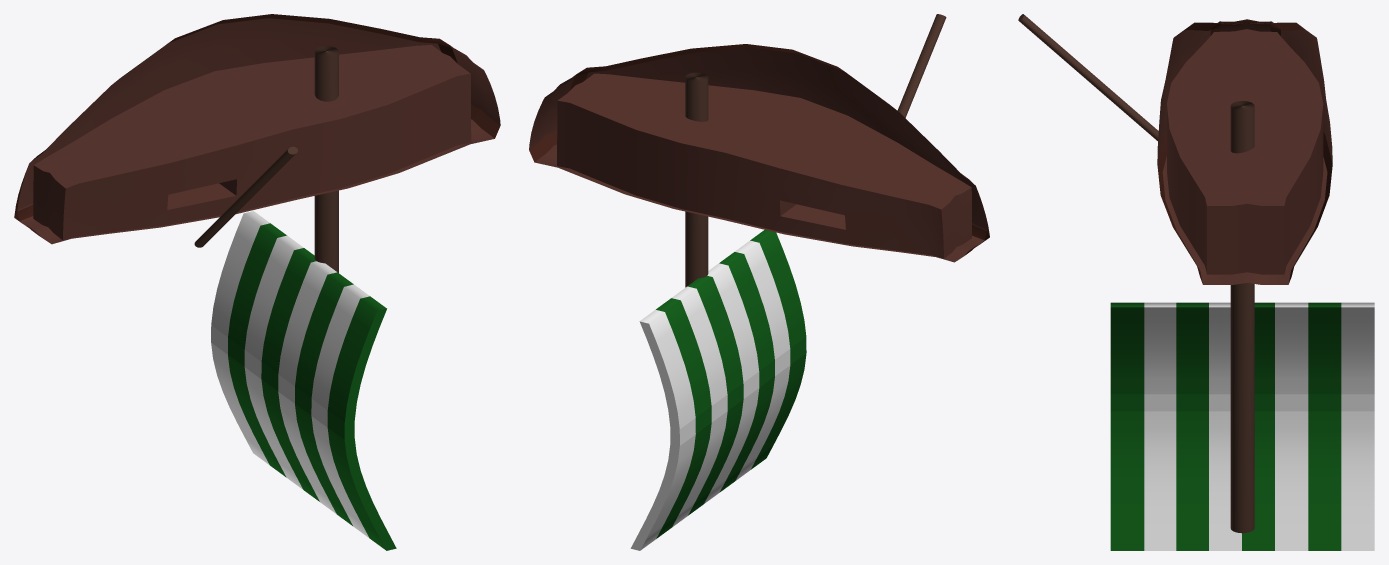
File: Boat.fbx
3 views of the same model, side by side, from view 1: azimuth 30°, elevation 25°; view 2: azimuth 150°, elevation 25°; view 3: azimuth 270°, elevation 25° (orthographic). The views are drawn at different scales.
Parts seen in each view (by area): view 1: Cube.002, Cube.003, Cylinder.001, Cylinder.002; view 2: Cube.002, Cube.003, Cylinder.001, Cylinder.002; view 3: Cube.003, Cube.002, Cylinder.001, Cylinder.002.
Boxes of the visible parts, left/top/right/bottom form: Cube.002: left=14, top=14, right=500, bottom=244; Cube.003: left=211, top=211, right=396, bottom=550; Cylinder.001: left=314, top=46, right=338, bottom=272; Cylinder.002: left=194, top=146, right=297, bottom=247; Cube.002: left=529, top=44, right=989, bottom=262; Cube.003: left=630, top=230, right=806, bottom=550; Cylinder.001: left=685, top=72, right=708, bottom=287; Cylinder.002: left=897, top=14, right=946, bottom=117; Cube.003: left=1110, top=302, right=1374, bottom=550; Cube.002: left=1157, top=19, right=1332, bottom=284; Cylinder.001: left=1230, top=101, right=1254, bottom=533; Cylinder.002: left=1018, top=14, right=1158, bottom=140.
Size of the model in its own units: 1070 by 1061 by 733.
